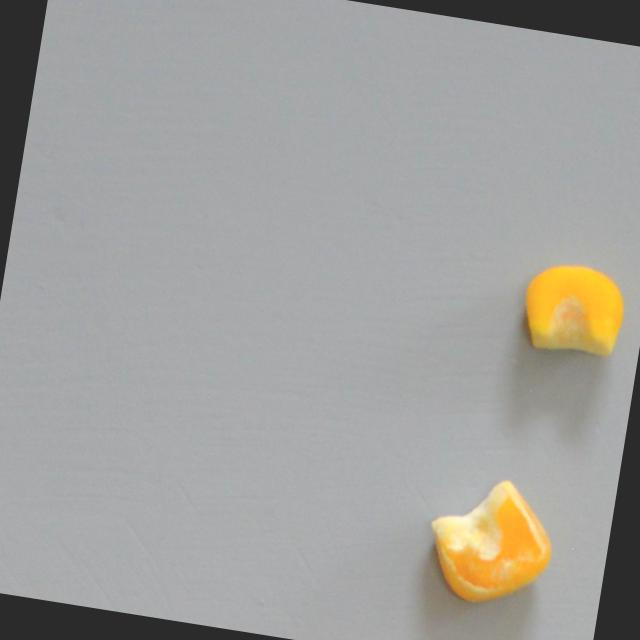dañado: (407, 467, 569, 619)
no_canjicado: (512, 253, 635, 367)
